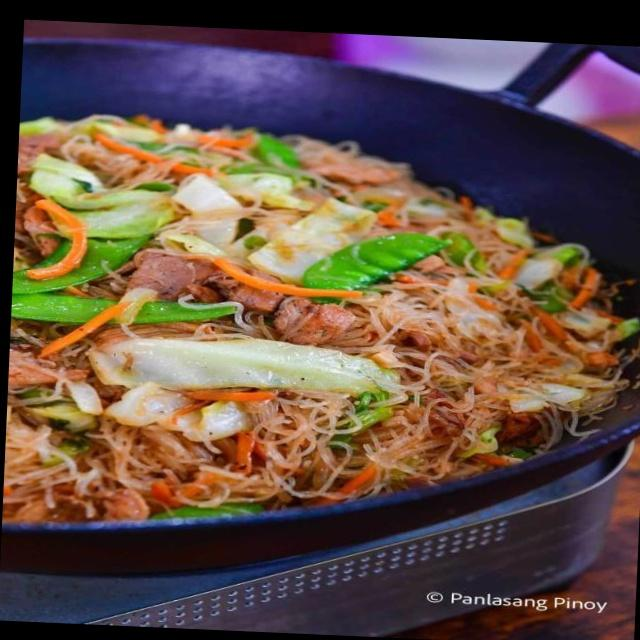pancit bihon: (0, 114, 620, 517)
